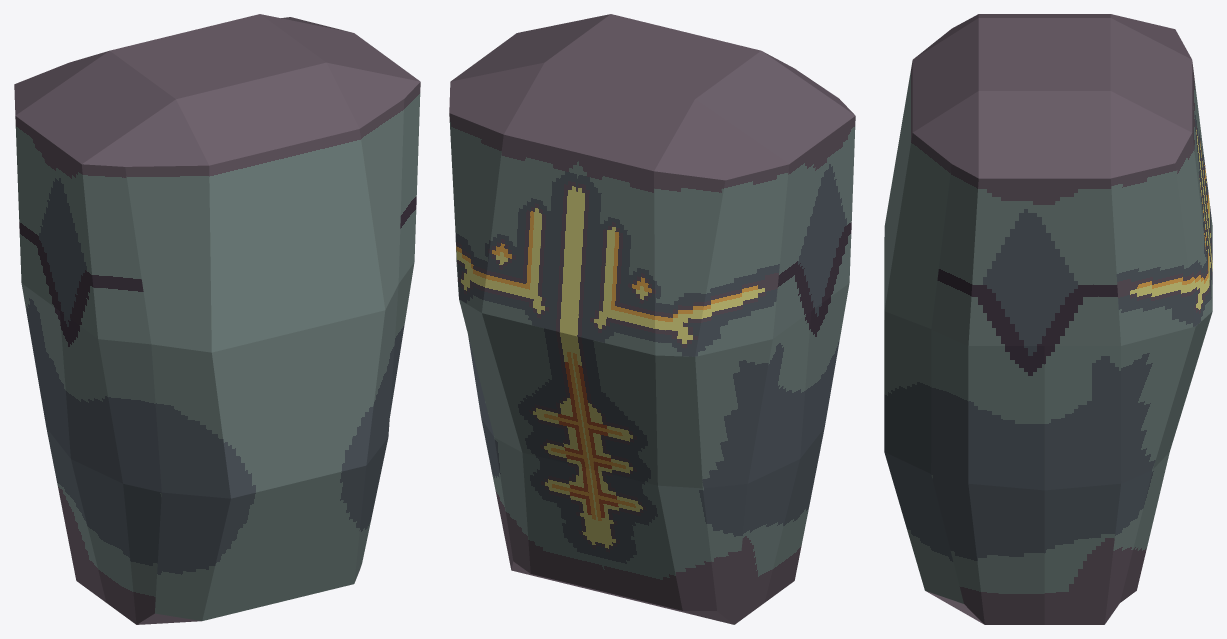
The model's file is god_body.glb.
3 renders of one model, left to right at view 1: azimuth 30°, elevation 25°; view 2: azimuth 150°, elevation 25°; view 3: azimuth 270°, elevation 25°, orthographic.
Visible parts, largest first — view 1: Cube.201; view 2: Cube.201; view 3: Cube.201.
Part boxes in pixels (left/top/right/bottom): Cube.201: left=14, top=14, right=420, bottom=624; Cube.201: left=449, top=14, right=855, bottom=624; Cube.201: left=884, top=14, right=1212, bottom=624.
Bounding box in the file's own units: 4.54 × 6.64 × 3.83.
1 material, 1 textured.
